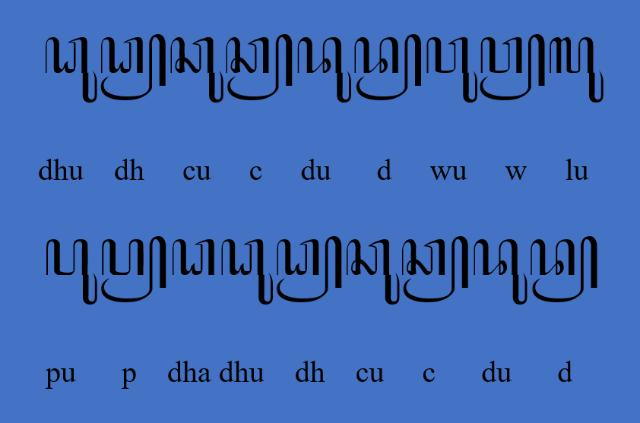-c: (400, 235, 470, 305), (226, 32, 294, 102)
-d: (529, 234, 599, 304), (354, 34, 424, 102)
-dh: (276, 234, 344, 304), (100, 34, 167, 100)
-p: (100, 234, 168, 304)
-w: (479, 32, 546, 102)
cu: (170, 36, 224, 104), (346, 238, 400, 306)
dh: (172, 238, 216, 278)
dhu: (220, 238, 274, 306), (45, 36, 99, 102)
du: (297, 35, 353, 104), (474, 238, 528, 306)
lu: (549, 35, 605, 104)
pu: (44, 238, 98, 306)
wu: (426, 35, 478, 104)
